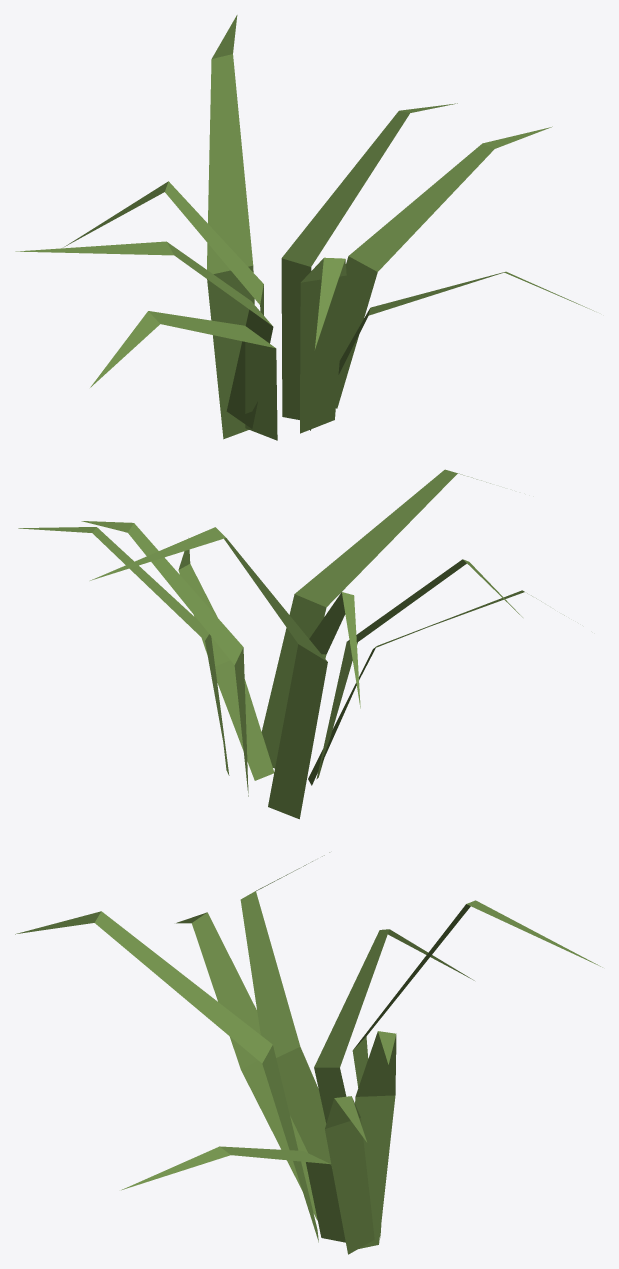
Rendered from grass.glb.
3 renders of one model, top to bottom at view 1: azimuth 30°, elevation 25°; view 2: azimuth 150°, elevation 25°; view 3: azimuth 270°, elevation 25°, orthographic. The views are drawn at different scales.
Parts seen in each view (by area): view 1: grass.001; view 2: grass.001; view 3: grass.001.
Boxes of the visible parts, bbox=[...] form: grass.001: bbox=[15, 15, 594, 440]; grass.001: bbox=[18, 469, 564, 819]; grass.001: bbox=[15, 852, 602, 1254].
Size of the model in its own units: 1.03 by 0.6037 by 0.9321.
